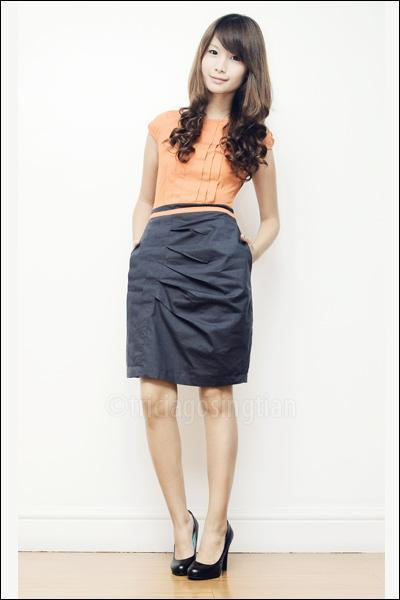shirt: (143, 107, 249, 216)
shoe: (171, 521, 233, 580)
skirt: (126, 203, 252, 394)
